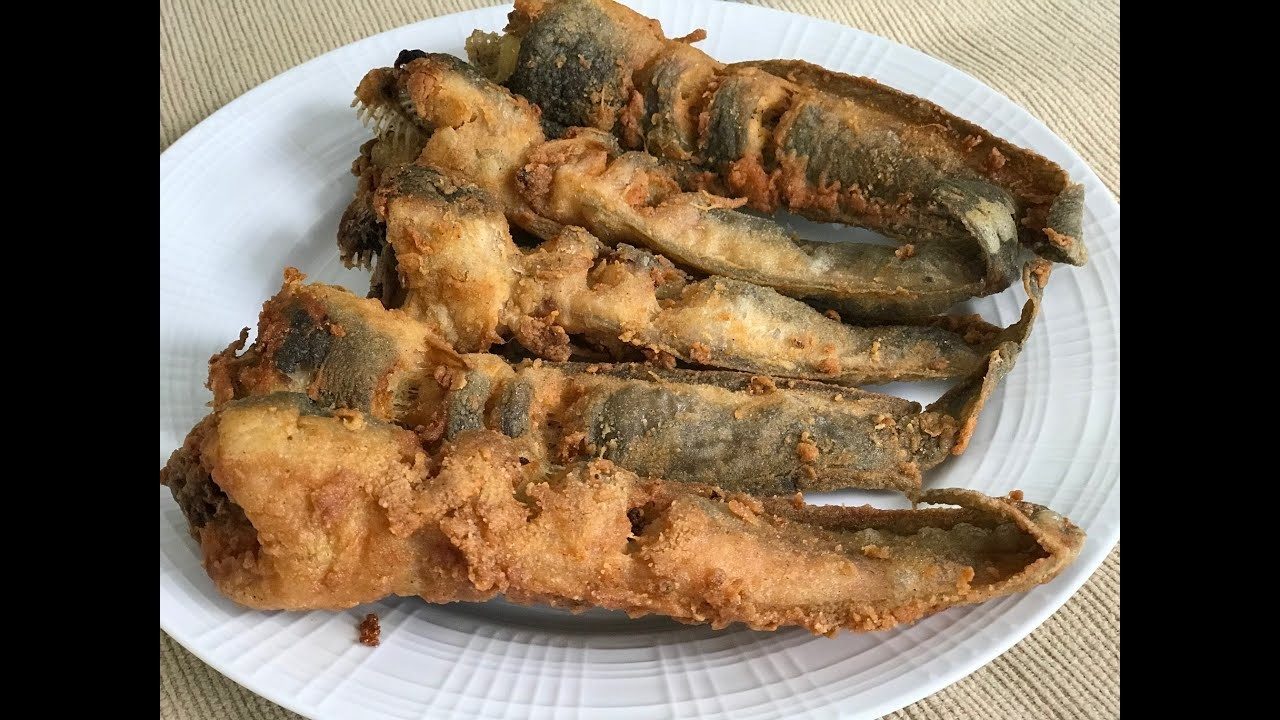pecel_lele: (167, 395, 1087, 630), (465, 2, 1100, 266)
